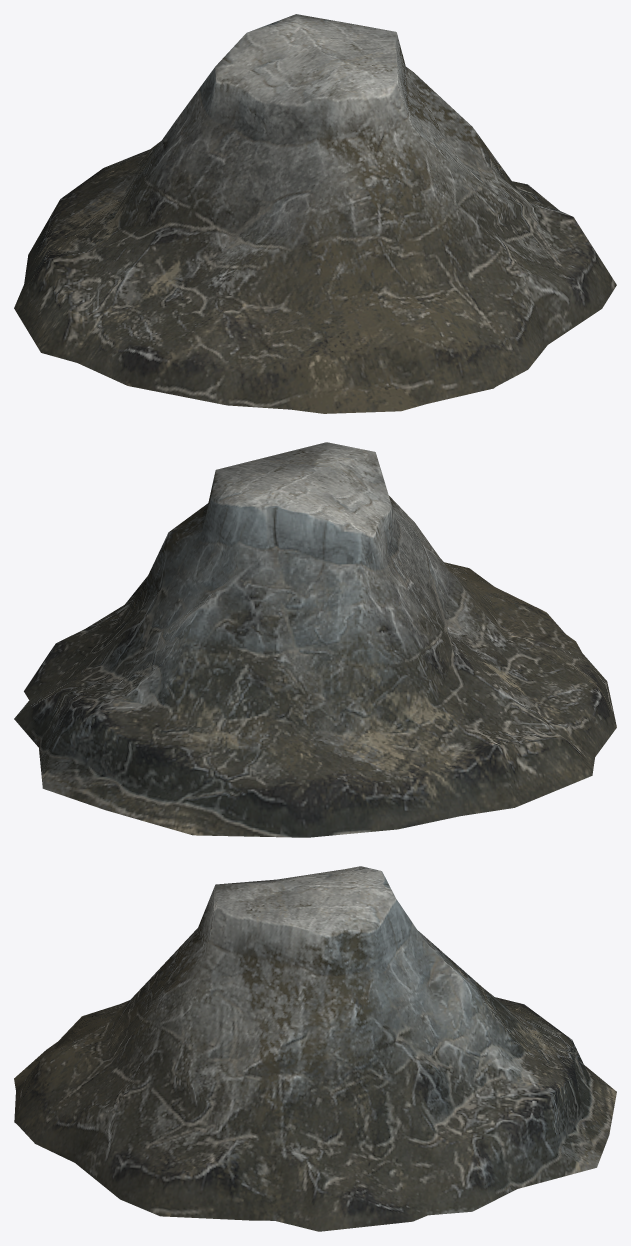
Rendered from mountain3.glb.
3 views of the same model, one above another, from view 1: azimuth 30°, elevation 25°; view 2: azimuth 150°, elevation 25°; view 3: azimuth 270°, elevation 25° (orthographic). The views are drawn at different scales.
Visible parts, largest first — view 1: mountain3; view 2: mountain3; view 3: mountain3.
Boxes of the visible parts, <box> form: mountain3: <box>14,14,616,413</box>; mountain3: <box>14,442,616,837</box>; mountain3: <box>14,866,616,1231</box>.
Size of the model in its own units: 8.41 by 3.55 by 8.48.
Materials: 1 (1 with a texture image).
